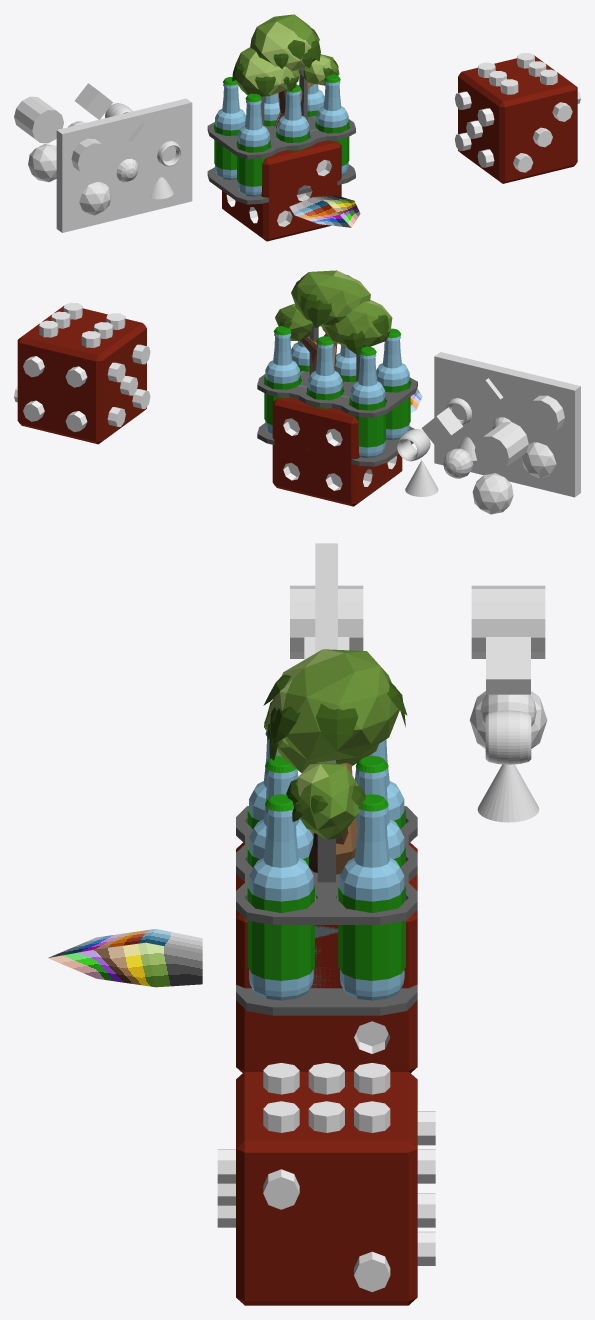
The model's file is Planter.fbx.
3 views of the same model, one above another, from view 1: azimuth 30°, elevation 25°; view 2: azimuth 150°, elevation 25°; view 3: azimuth 270°, elevation 25° (orthographic). The views are drawn at different scales.
Visible parts, largest first — view 1: Cube.002, Cube.005, Dice, Planter, Cut, Icosphere, Holder, Bottle.004, Bottle.003, Bottle.002, Leaf, Cylinder.001 (+5 smaller); view 2: Cube.005, Cube.002, Dice, Planter, Cut, Icosphere, Holder, Bottle.003, Bottle.004, Cylinder.001, Bottle.005, Bottle (+7 smaller); view 3: Cube.005, Planter, Dice, Cut, Holder, Bottle.005, Bottle.002, Leaf, Cylinder.001, Icosphere, Cube.004, Cube.002 (+7 smaller).
Part boxes in pixels (<box>): Cube.002: <box>56,98,192,232</box>; Cube.005: <box>458,55,577,183</box>; Dice: <box>222,140,341,241</box>; Planter: <box>232,14,339,139</box>; Cut: <box>454,53,580,172</box>; Icosphere: <box>71,123,181,215</box>; Holder: <box>207,67,355,204</box>; Bottle.004: <box>237,93,270,196</box>; Bottle.003: <box>214,77,245,179</box>; Bottle.002: <box>315,74,349,175</box>; Leaf: <box>289,195,360,227</box>; Cylinder.001: <box>14,96,63,143</box>; Cube.005: <box>17,306,146,444</box>; Cube.002: <box>434,352,580,497</box>; Dice: <box>272,397,402,506</box>; Planter: <box>275,270,392,398</box>; Cut: <box>14,302,150,432</box>; Icosphere: <box>446,378,564,478</box>; Holder: <box>257,325,417,466</box>; Bottle.003: <box>349,346,385,458</box>; Bottle.004: <box>376,328,410,440</box>; Cylinder.001: <box>474,422,528,472</box>; Bottle.005: <box>264,326,300,435</box>; Bottle: <box>307,336,343,408</box>; Cube.005: <box>236,1071,417,1305</box>; Planter: <box>263,649,407,988</box>; Dice: <box>236,842,417,1072</box>; Cut: <box>217,1063,435,1291</box>; Holder: <box>236,760,417,1015</box>; Bottle.005: <box>338,794,405,1000</box>; Bottle.002: <box>247,794,314,1000</box>; Leaf: <box>48,929,202,987</box>; Cylinder.001: <box>471,585,545,658</box>; Icosphere: <box>290,585,363,659</box>; Cube.004: <box>486,637,530,694</box>; Cube.002: <box>315,543,337,653</box>.
Size of the model in its own units: 1285 by 490 by 550.
